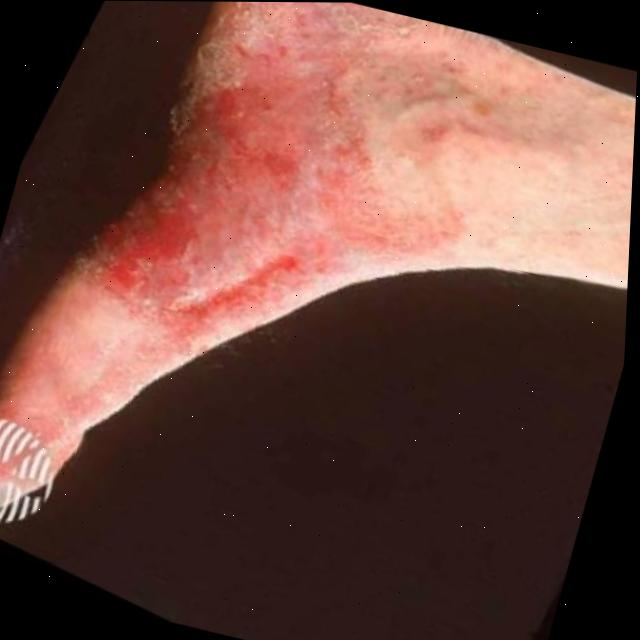Eczema: (41, 0, 488, 393)
